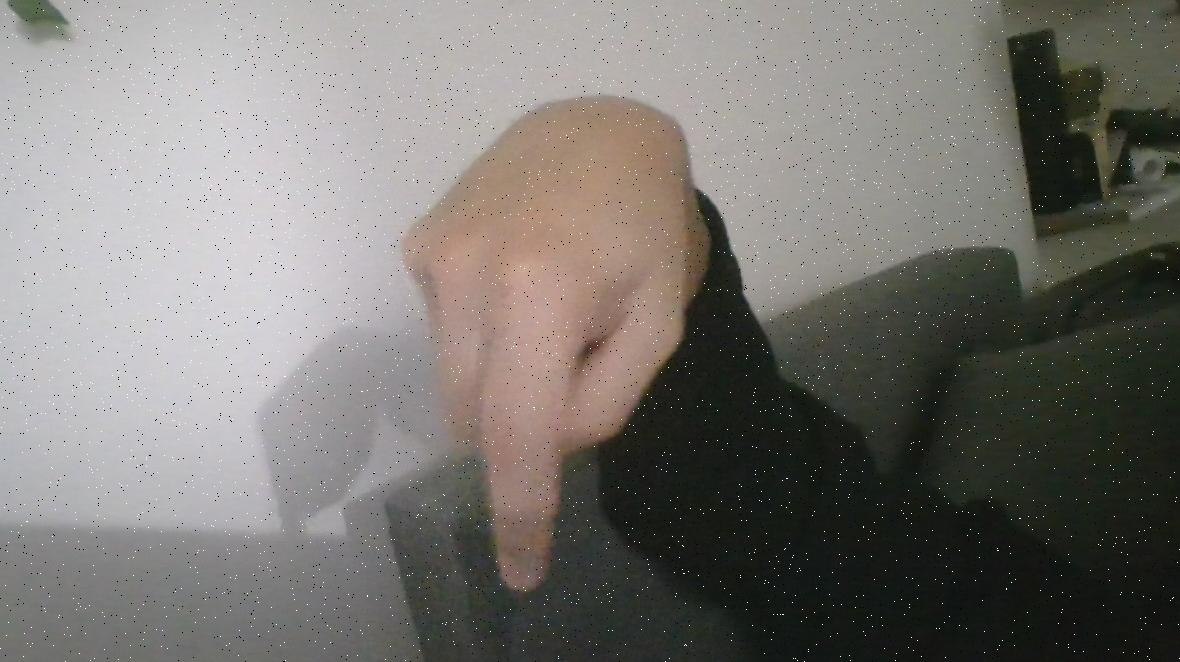down: (398, 46, 718, 599)
